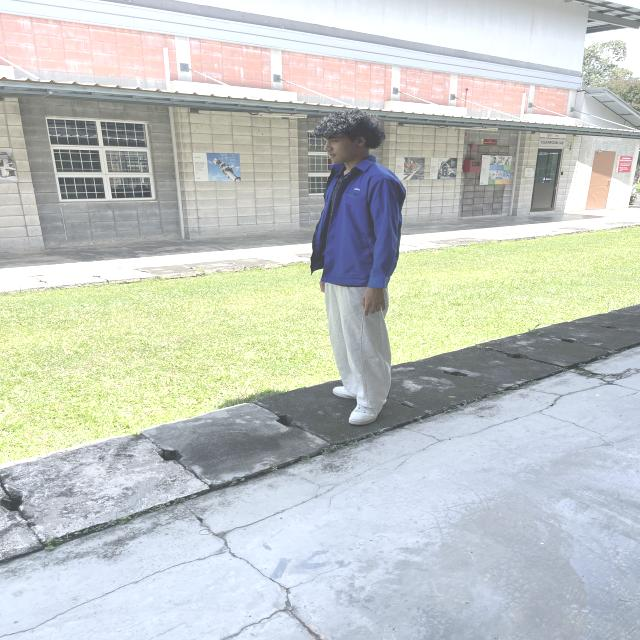person_with_labcoat: (311, 109, 406, 426)
